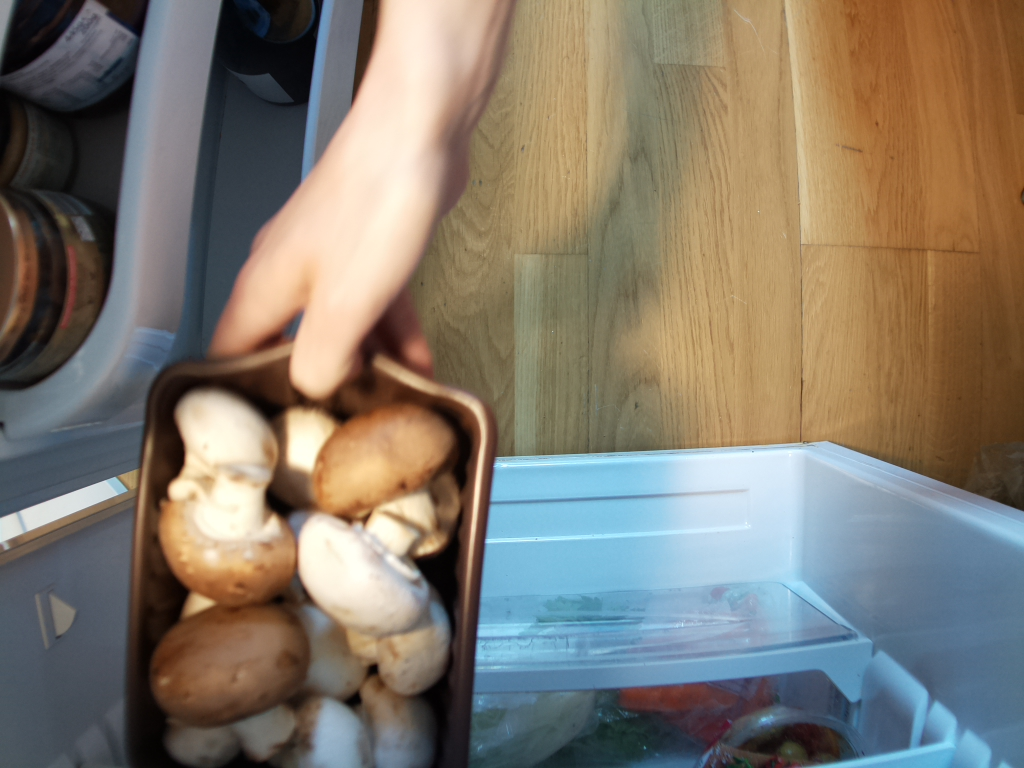mushrooms: (143, 374, 492, 768)
